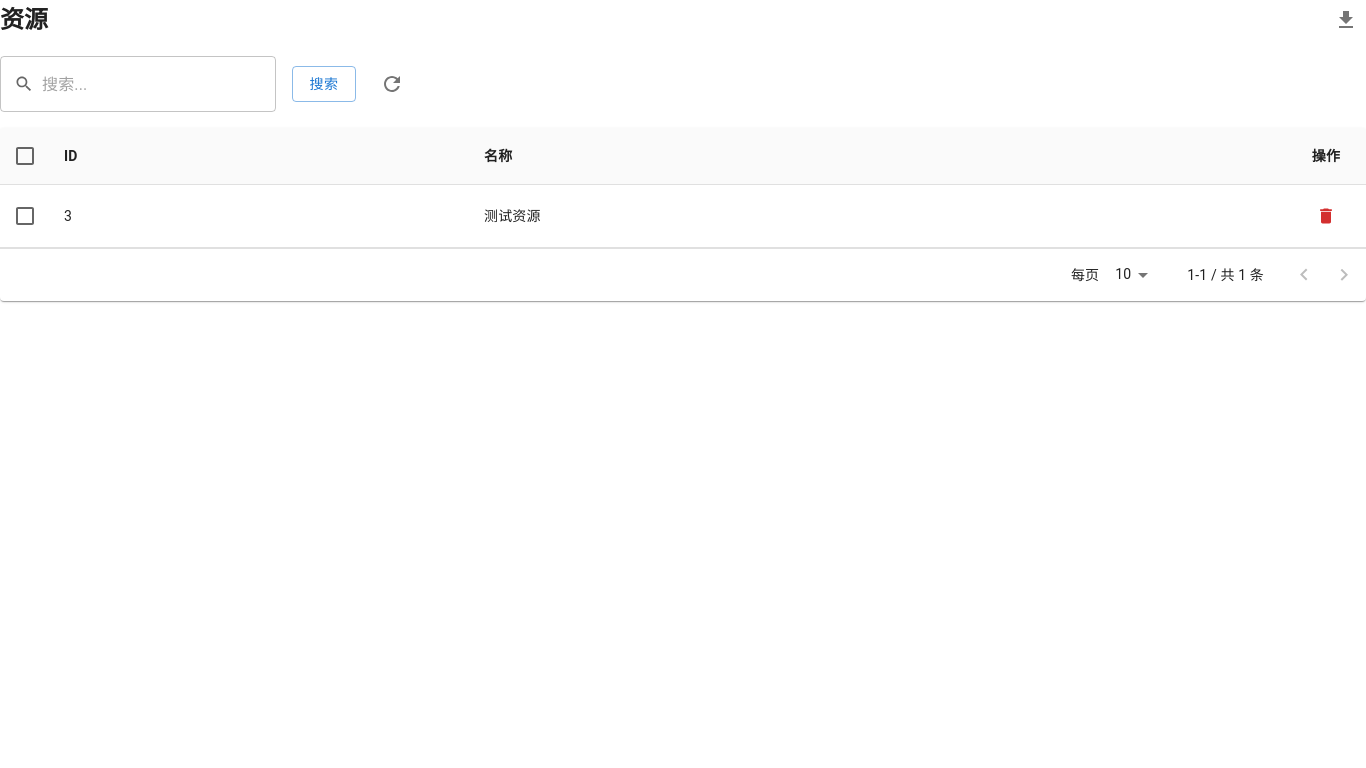
Test case: CrudTablePage › keeps delete failures visible in the confirm dialog
Expected: the text "测试资源" is shown, [468,185,1286,248]
Click the button named "删除". click: click(1326, 216)
box: [1311,201,1341,231]
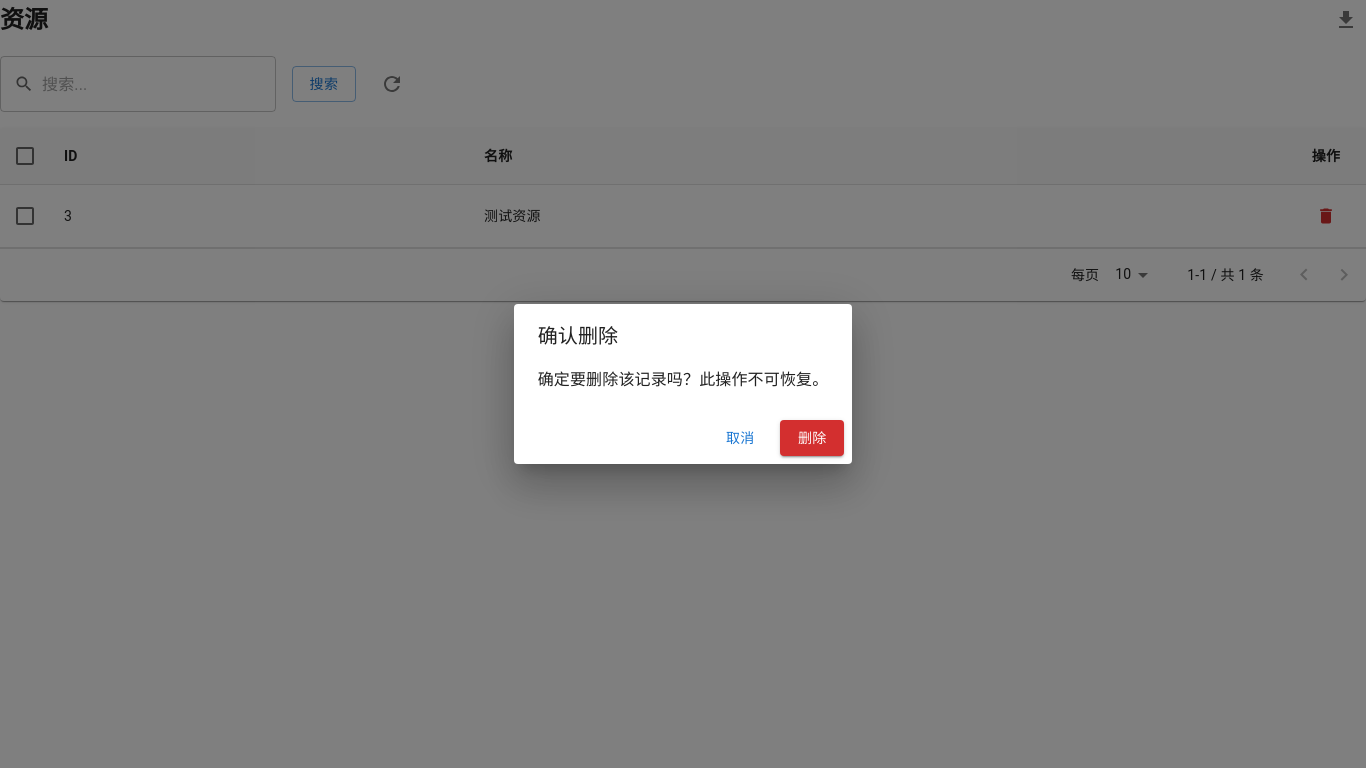
Expected: the dialog is shown, [514,304,852,464]
Click the button "删除". click: click(812, 438)
box: [780,420,844,456]
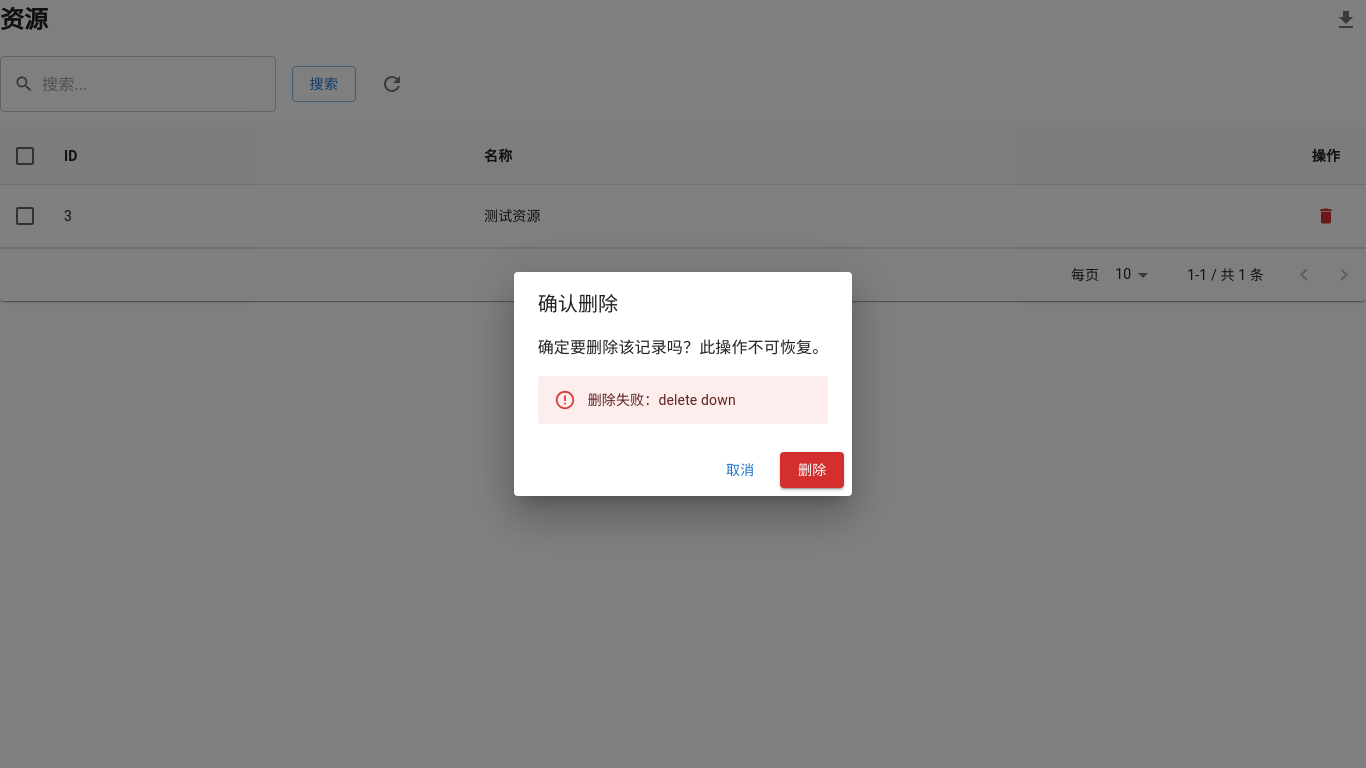
Expected: the text "删除失败：delete down" is shown, [588,392,736,408]
